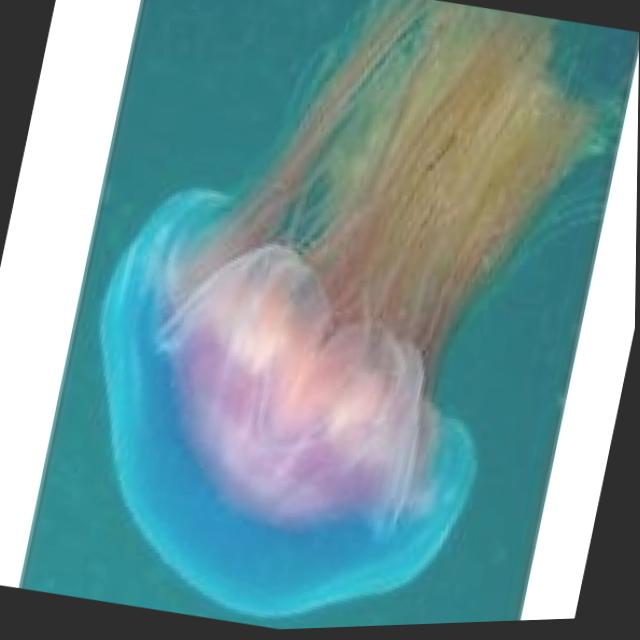Jellyfish: (46, 0, 640, 638)
